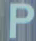Parking: (7, 1, 35, 38)
